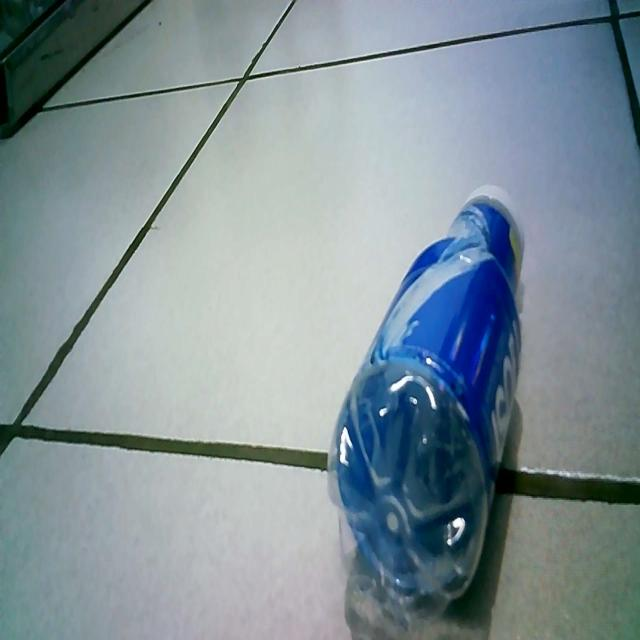botol: (325, 174, 532, 625)
